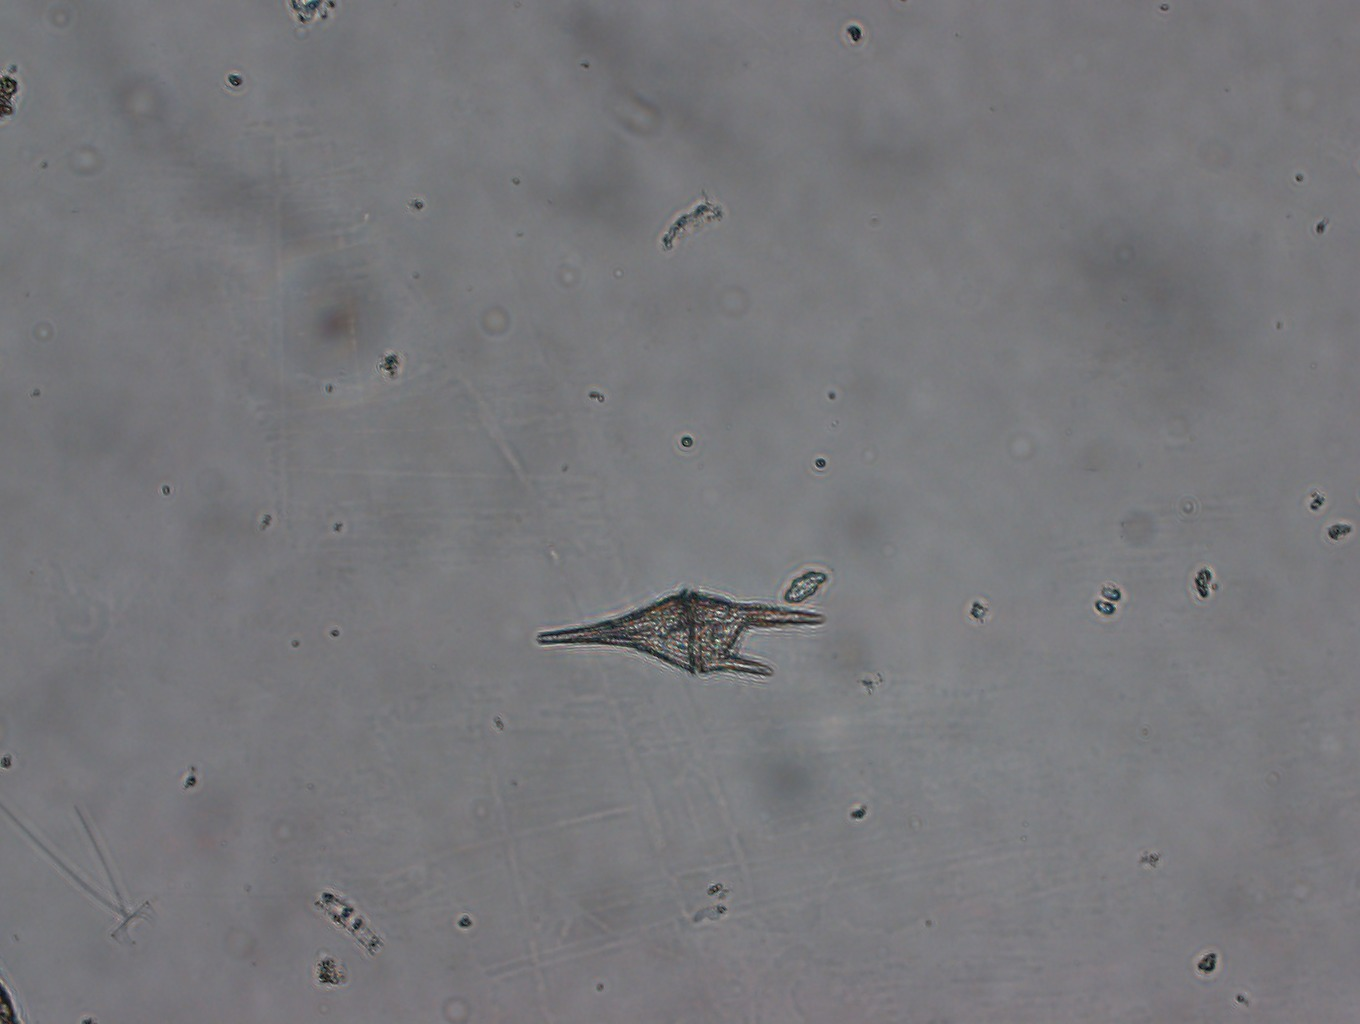ceratium furca: (535, 589, 828, 680)
